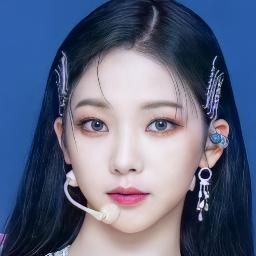face: (82, 57, 184, 219)
